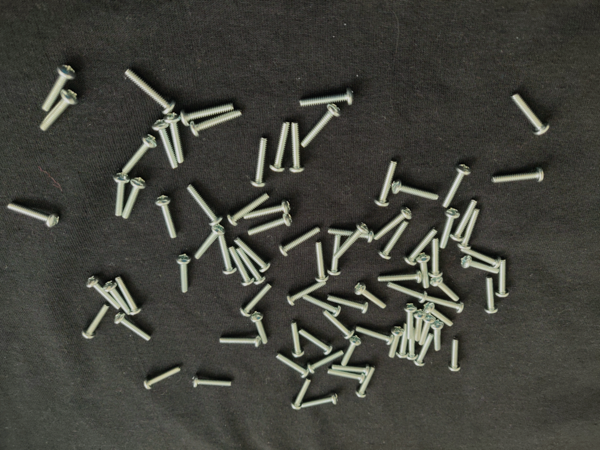longscrew: (123, 68, 177, 115), (300, 104, 342, 149), (40, 64, 78, 113), (38, 87, 79, 132), (511, 92, 552, 137), (186, 184, 224, 227), (189, 109, 243, 138), (121, 133, 158, 175), (7, 201, 60, 228), (151, 119, 179, 170), (234, 237, 272, 274), (180, 101, 234, 127), (373, 206, 413, 241), (403, 227, 438, 267), (442, 163, 472, 209), (227, 194, 270, 226), (334, 222, 370, 260), (277, 226, 321, 257), (377, 220, 410, 261), (85, 275, 122, 311), (449, 200, 479, 243), (194, 223, 227, 261), (235, 247, 267, 286), (163, 112, 186, 165), (300, 87, 355, 109), (228, 245, 256, 287), (373, 160, 398, 207), (269, 121, 291, 174), (114, 276, 143, 316), (240, 283, 273, 318), (121, 177, 147, 221), (114, 312, 152, 342), (391, 178, 440, 201), (286, 280, 327, 307), (456, 208, 482, 250), (102, 280, 132, 316), (248, 213, 293, 237), (250, 137, 271, 188), (155, 194, 178, 240), (244, 199, 292, 221), (81, 304, 110, 340), (322, 309, 355, 340), (299, 328, 334, 357), (302, 293, 342, 318), (460, 247, 503, 270), (143, 366, 182, 391), (289, 120, 307, 174), (491, 166, 545, 184), (307, 349, 344, 375), (353, 282, 387, 310), (276, 352, 311, 379), (387, 281, 428, 304), (439, 208, 461, 250), (327, 294, 370, 315), (328, 225, 375, 244), (355, 325, 395, 346), (113, 173, 132, 217), (218, 232, 237, 275), (430, 276, 461, 302), (425, 295, 465, 315), (423, 303, 455, 328), (413, 333, 435, 368), (461, 255, 500, 274), (340, 335, 363, 367), (355, 365, 376, 399), (291, 378, 312, 411), (176, 254, 193, 294), (302, 392, 339, 410), (327, 368, 366, 385), (327, 235, 343, 276), (428, 237, 444, 278), (250, 311, 269, 345), (315, 240, 330, 283), (377, 270, 423, 284), (418, 314, 437, 347), (495, 259, 511, 298), (192, 375, 233, 390), (290, 320, 305, 359), (484, 276, 499, 315), (416, 252, 431, 290), (219, 335, 262, 348), (403, 304, 418, 341), (388, 325, 404, 359), (396, 323, 410, 360), (448, 337, 462, 373), (332, 364, 370, 377), (431, 320, 445, 353), (406, 326, 419, 361), (414, 309, 427, 343)
